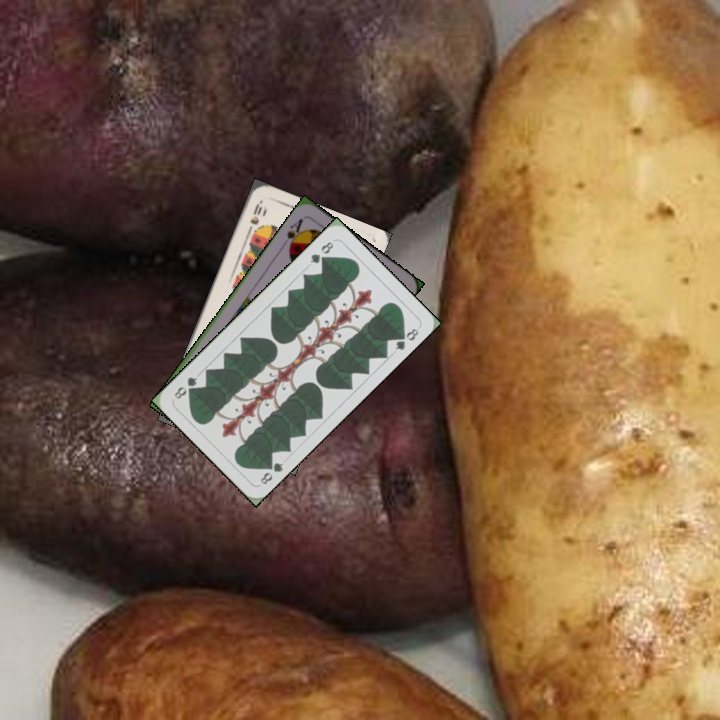G8: (256, 456, 286, 487), (306, 237, 337, 266)
S10: (243, 197, 265, 236)
SA: (278, 214, 307, 253)
